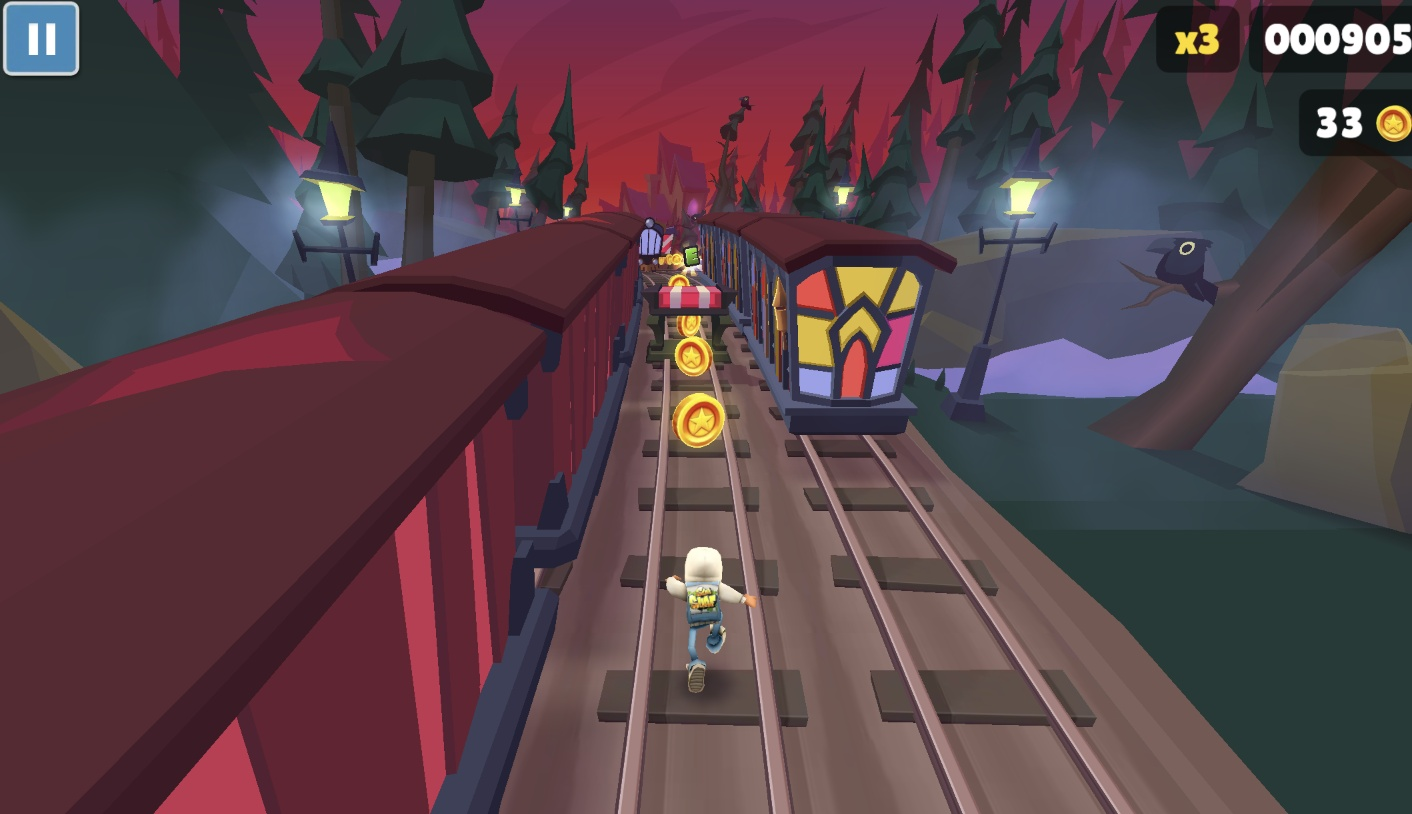ground_barrier: (641, 282, 734, 363)
overhead_barrier: (661, 227, 676, 257)
train: (0, 224, 649, 814), (694, 225, 976, 475), (638, 226, 676, 273)
